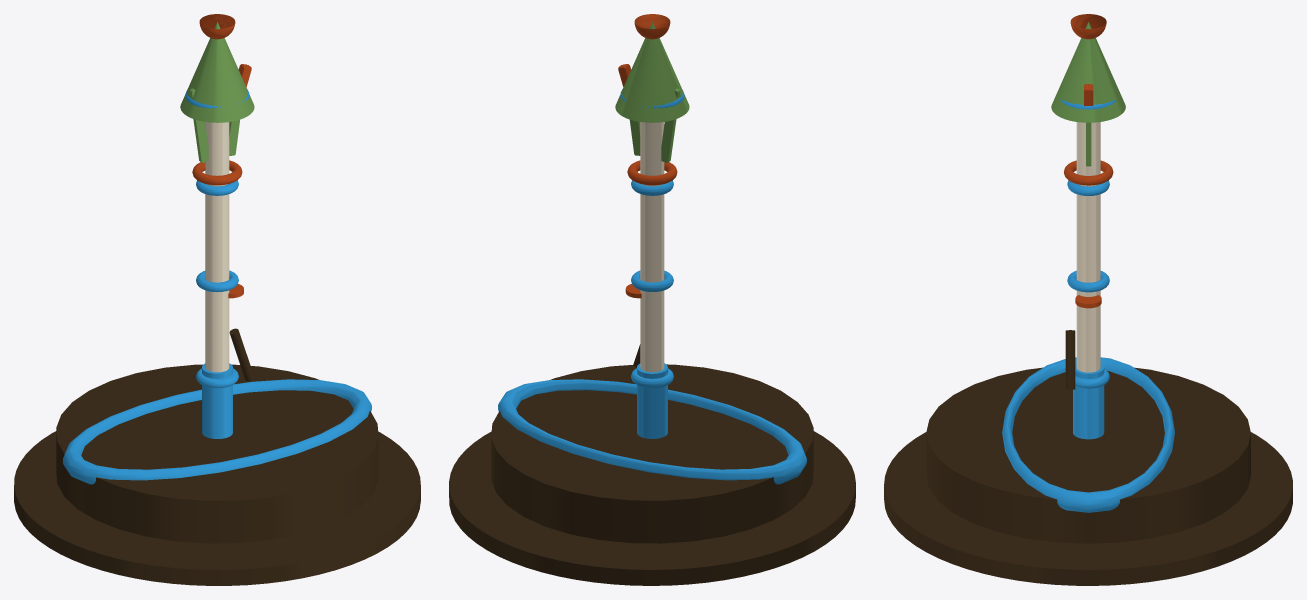
File: 0457_机械图鉴_达·芬奇螺旋桨.glb
3 renders of one model, left to right at view 1: azimuth 30°, elevation 25°; view 2: azimuth 150°, elevation 25°; view 3: azimuth 270°, elevation 25°, orthographic.
Visible parts, largest first — view 1: card_0457; view 2: card_0457; view 3: card_0457.
Part boxes in pixels (x1,y1,x2,y2): card_0457: (14,14,420,585); card_0457: (449,14,855,585); card_0457: (884,14,1292,585).
Bounding box in the file's own units: 0.7698 × 1 × 0.7741.
